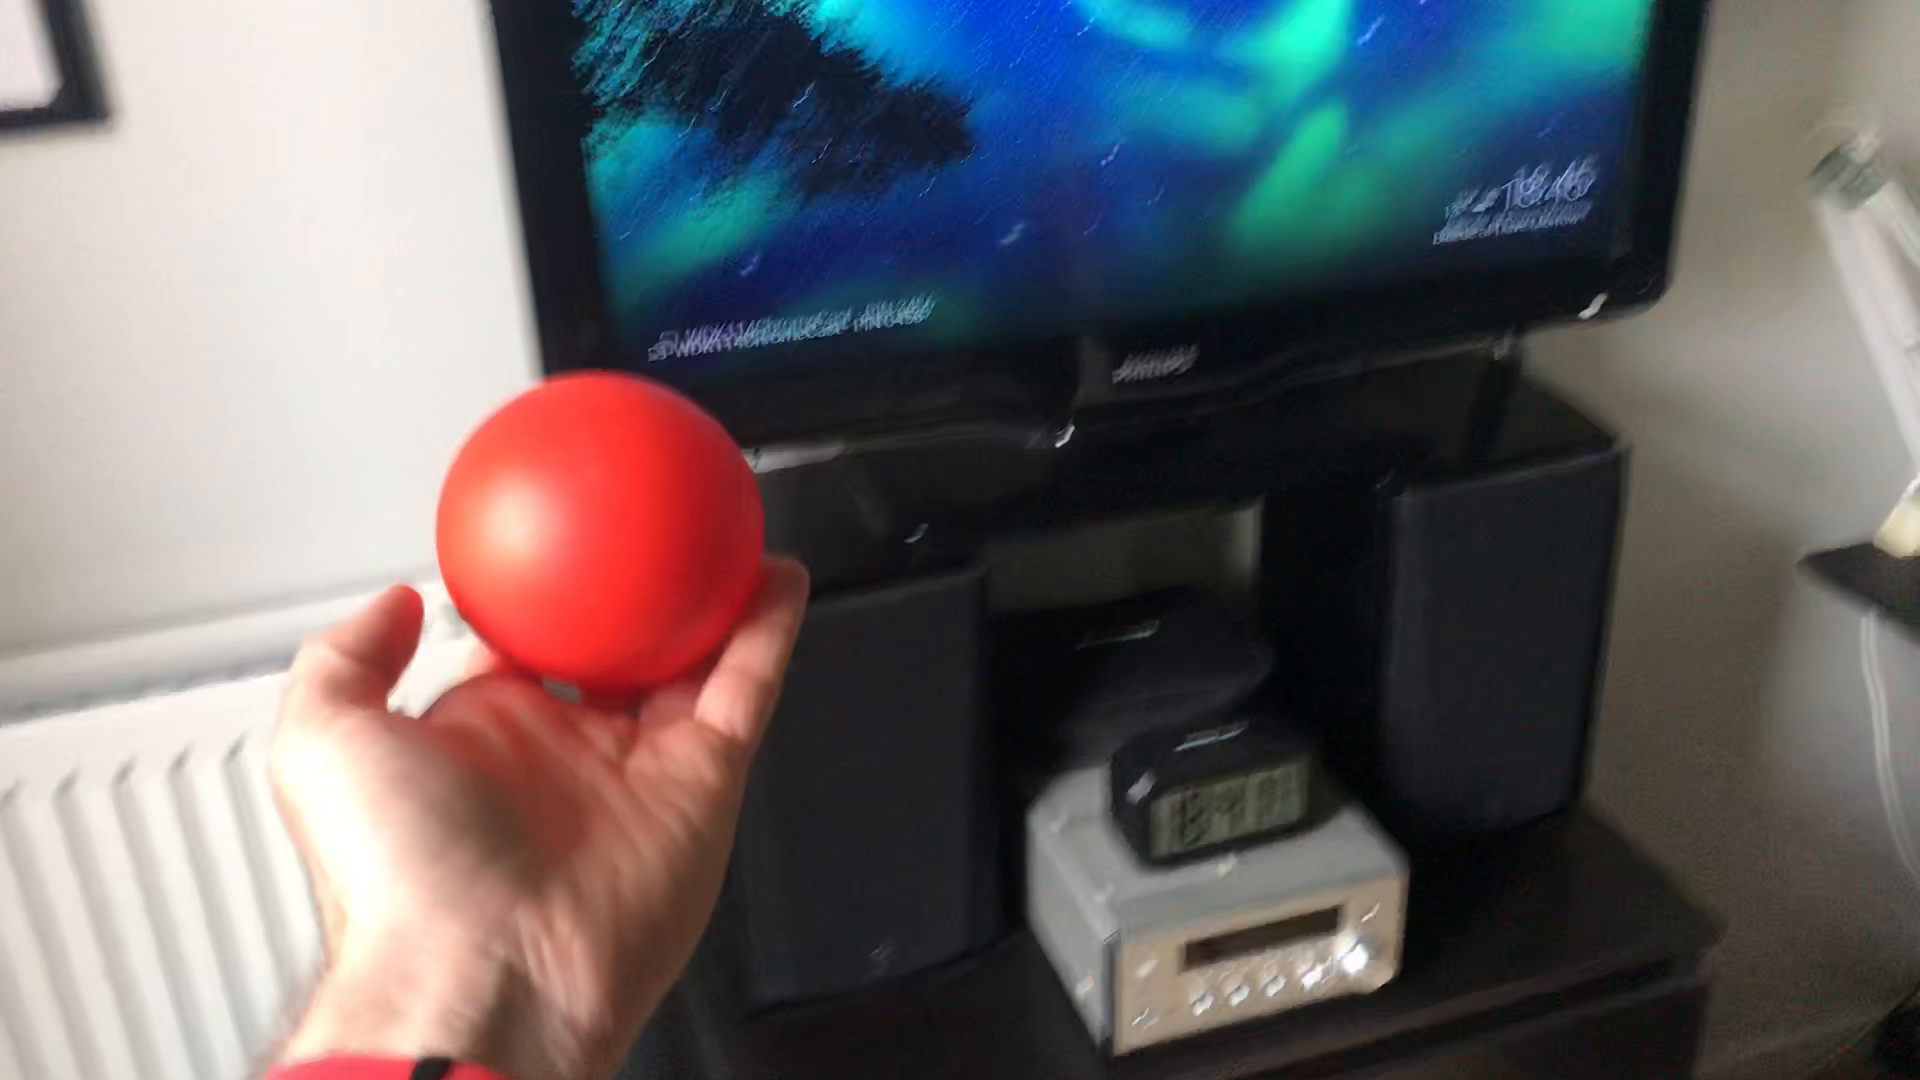Ball: (438, 372, 770, 688)
